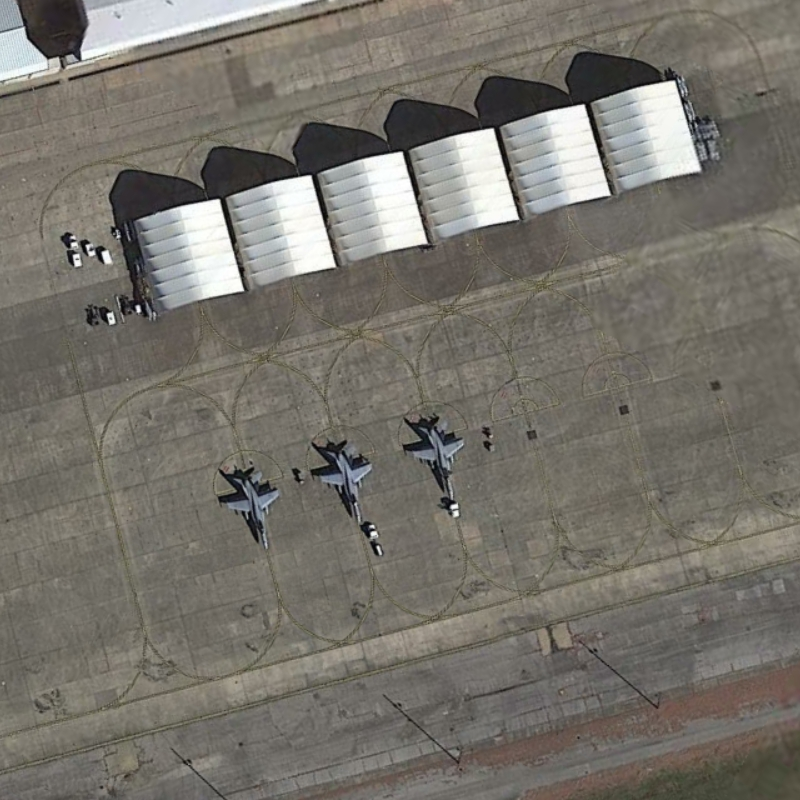A16: (397, 409, 489, 507), (303, 433, 388, 528), (219, 461, 287, 555)
